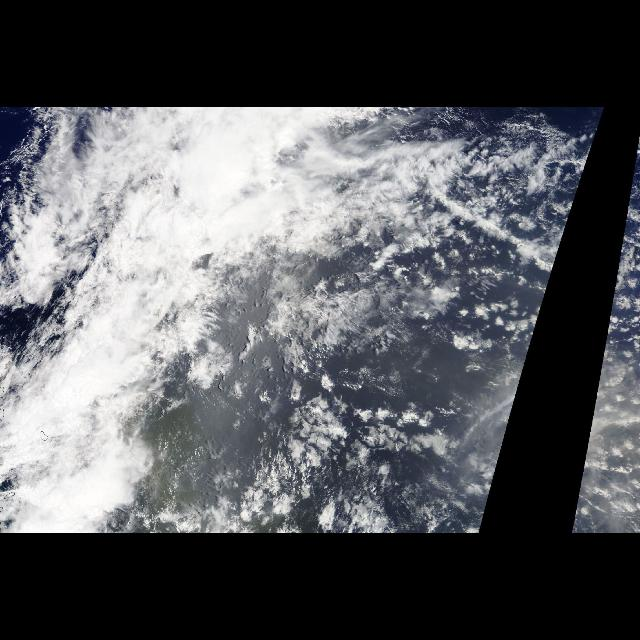Flower: (248, 391, 496, 533)
